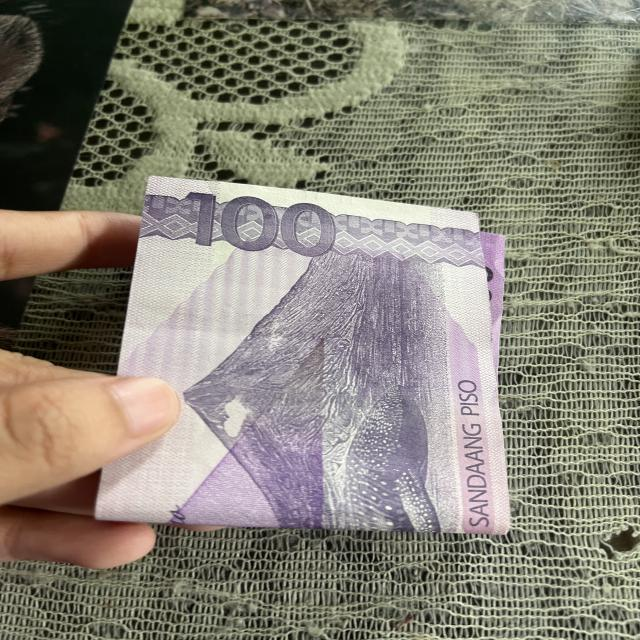value: (178, 190, 337, 259)
